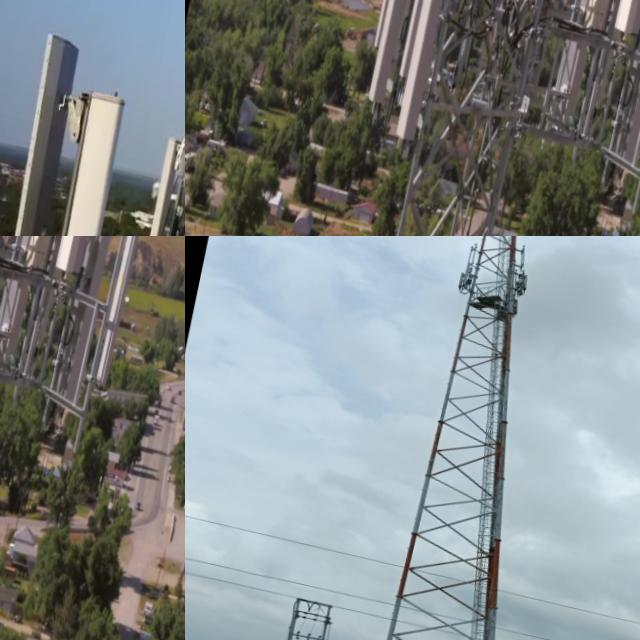GSM Antenna: (0, 84, 146, 236), (0, 27, 99, 236), (51, 236, 144, 412), (391, 0, 488, 135), (16, 236, 92, 400), (549, 0, 632, 135), (575, 0, 640, 161), (0, 236, 73, 374), (93, 236, 158, 380), (109, 125, 185, 236), (365, 0, 448, 97), (513, 267, 532, 293), (453, 268, 470, 290)
